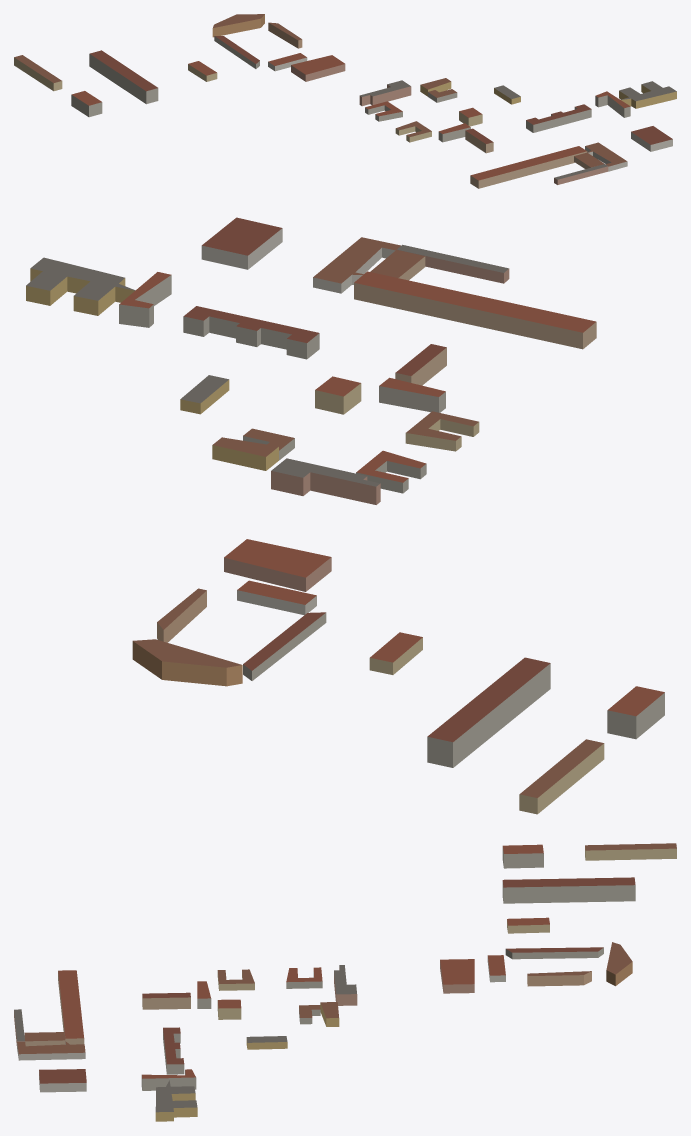
The model's file is SM_Fondale_Citta_O_02_LOD2.fbx.
3 renders of one model, top to bottom at view 1: azimuth 30°, elevation 25°; view 2: azimuth 150°, elevation 25°; view 3: azimuth 270°, elevation 25°, orthographic. The views are drawn at different scales.
Parts seen in each view (by area): view 1: SM_Fondale_Citta_O_02_LOD2; view 2: SM_Fondale_Citta_O_02_LOD2; view 3: SM_Fondale_Citta_O_02_LOD2.
Boxes of the visible parts, left/top/right/bottom form: SM_Fondale_Citta_O_02_LOD2: left=14, top=14, right=676, bottom=188; SM_Fondale_Citta_O_02_LOD2: left=26, top=217, right=664, bottom=814; SM_Fondale_Citta_O_02_LOD2: left=14, top=843, right=676, bottom=1121.
Bounding box in the file's own units: 80559 × 81255 × 3397.
